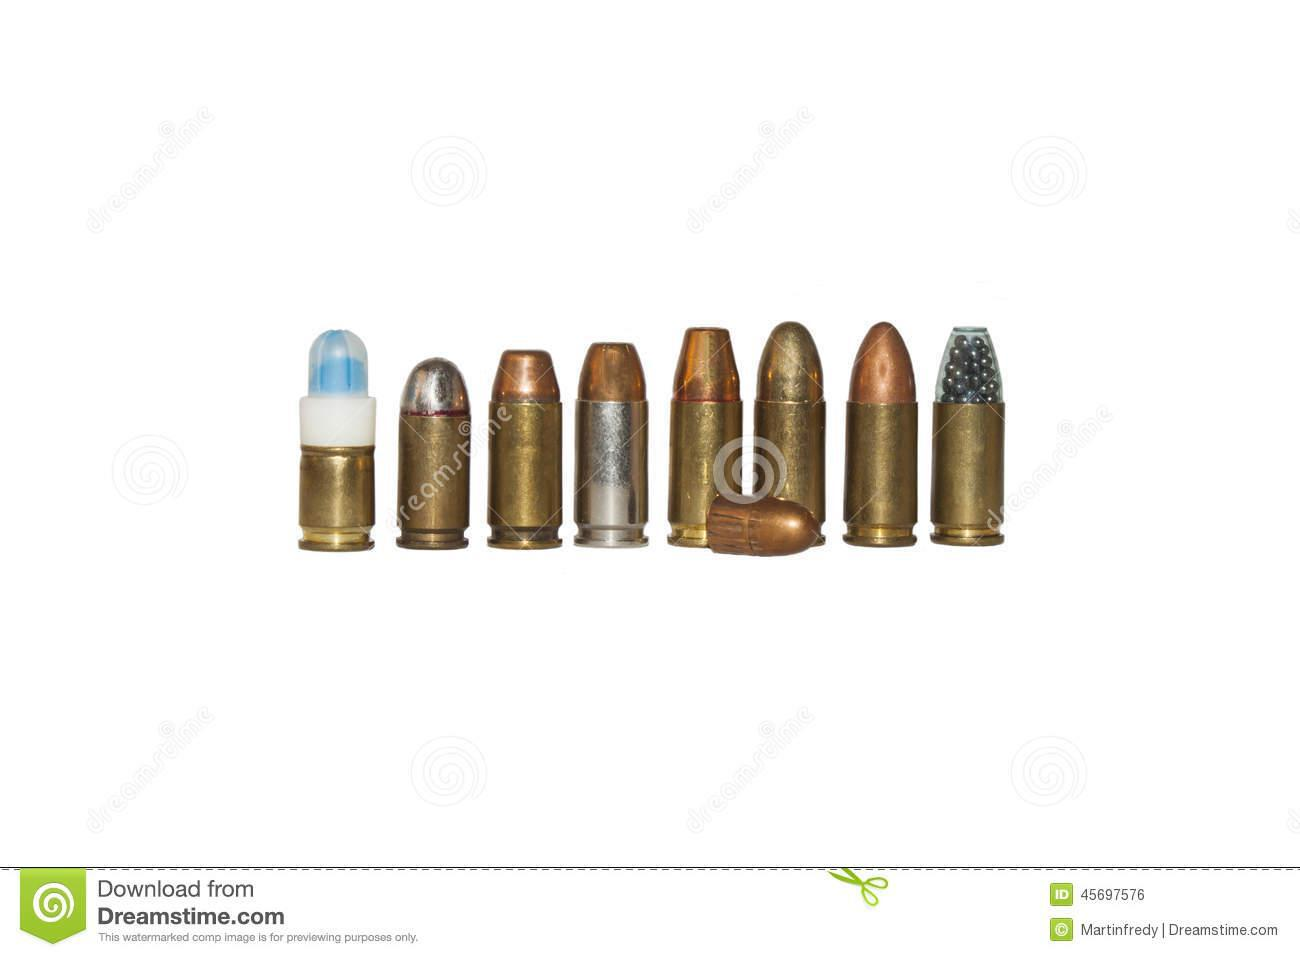Bullet: (280, 326, 391, 560), (928, 316, 1030, 553), (749, 309, 828, 557), (570, 334, 659, 553), (394, 348, 488, 555), (843, 312, 916, 567), (478, 344, 566, 547), (667, 326, 741, 551), (714, 492, 818, 561)
